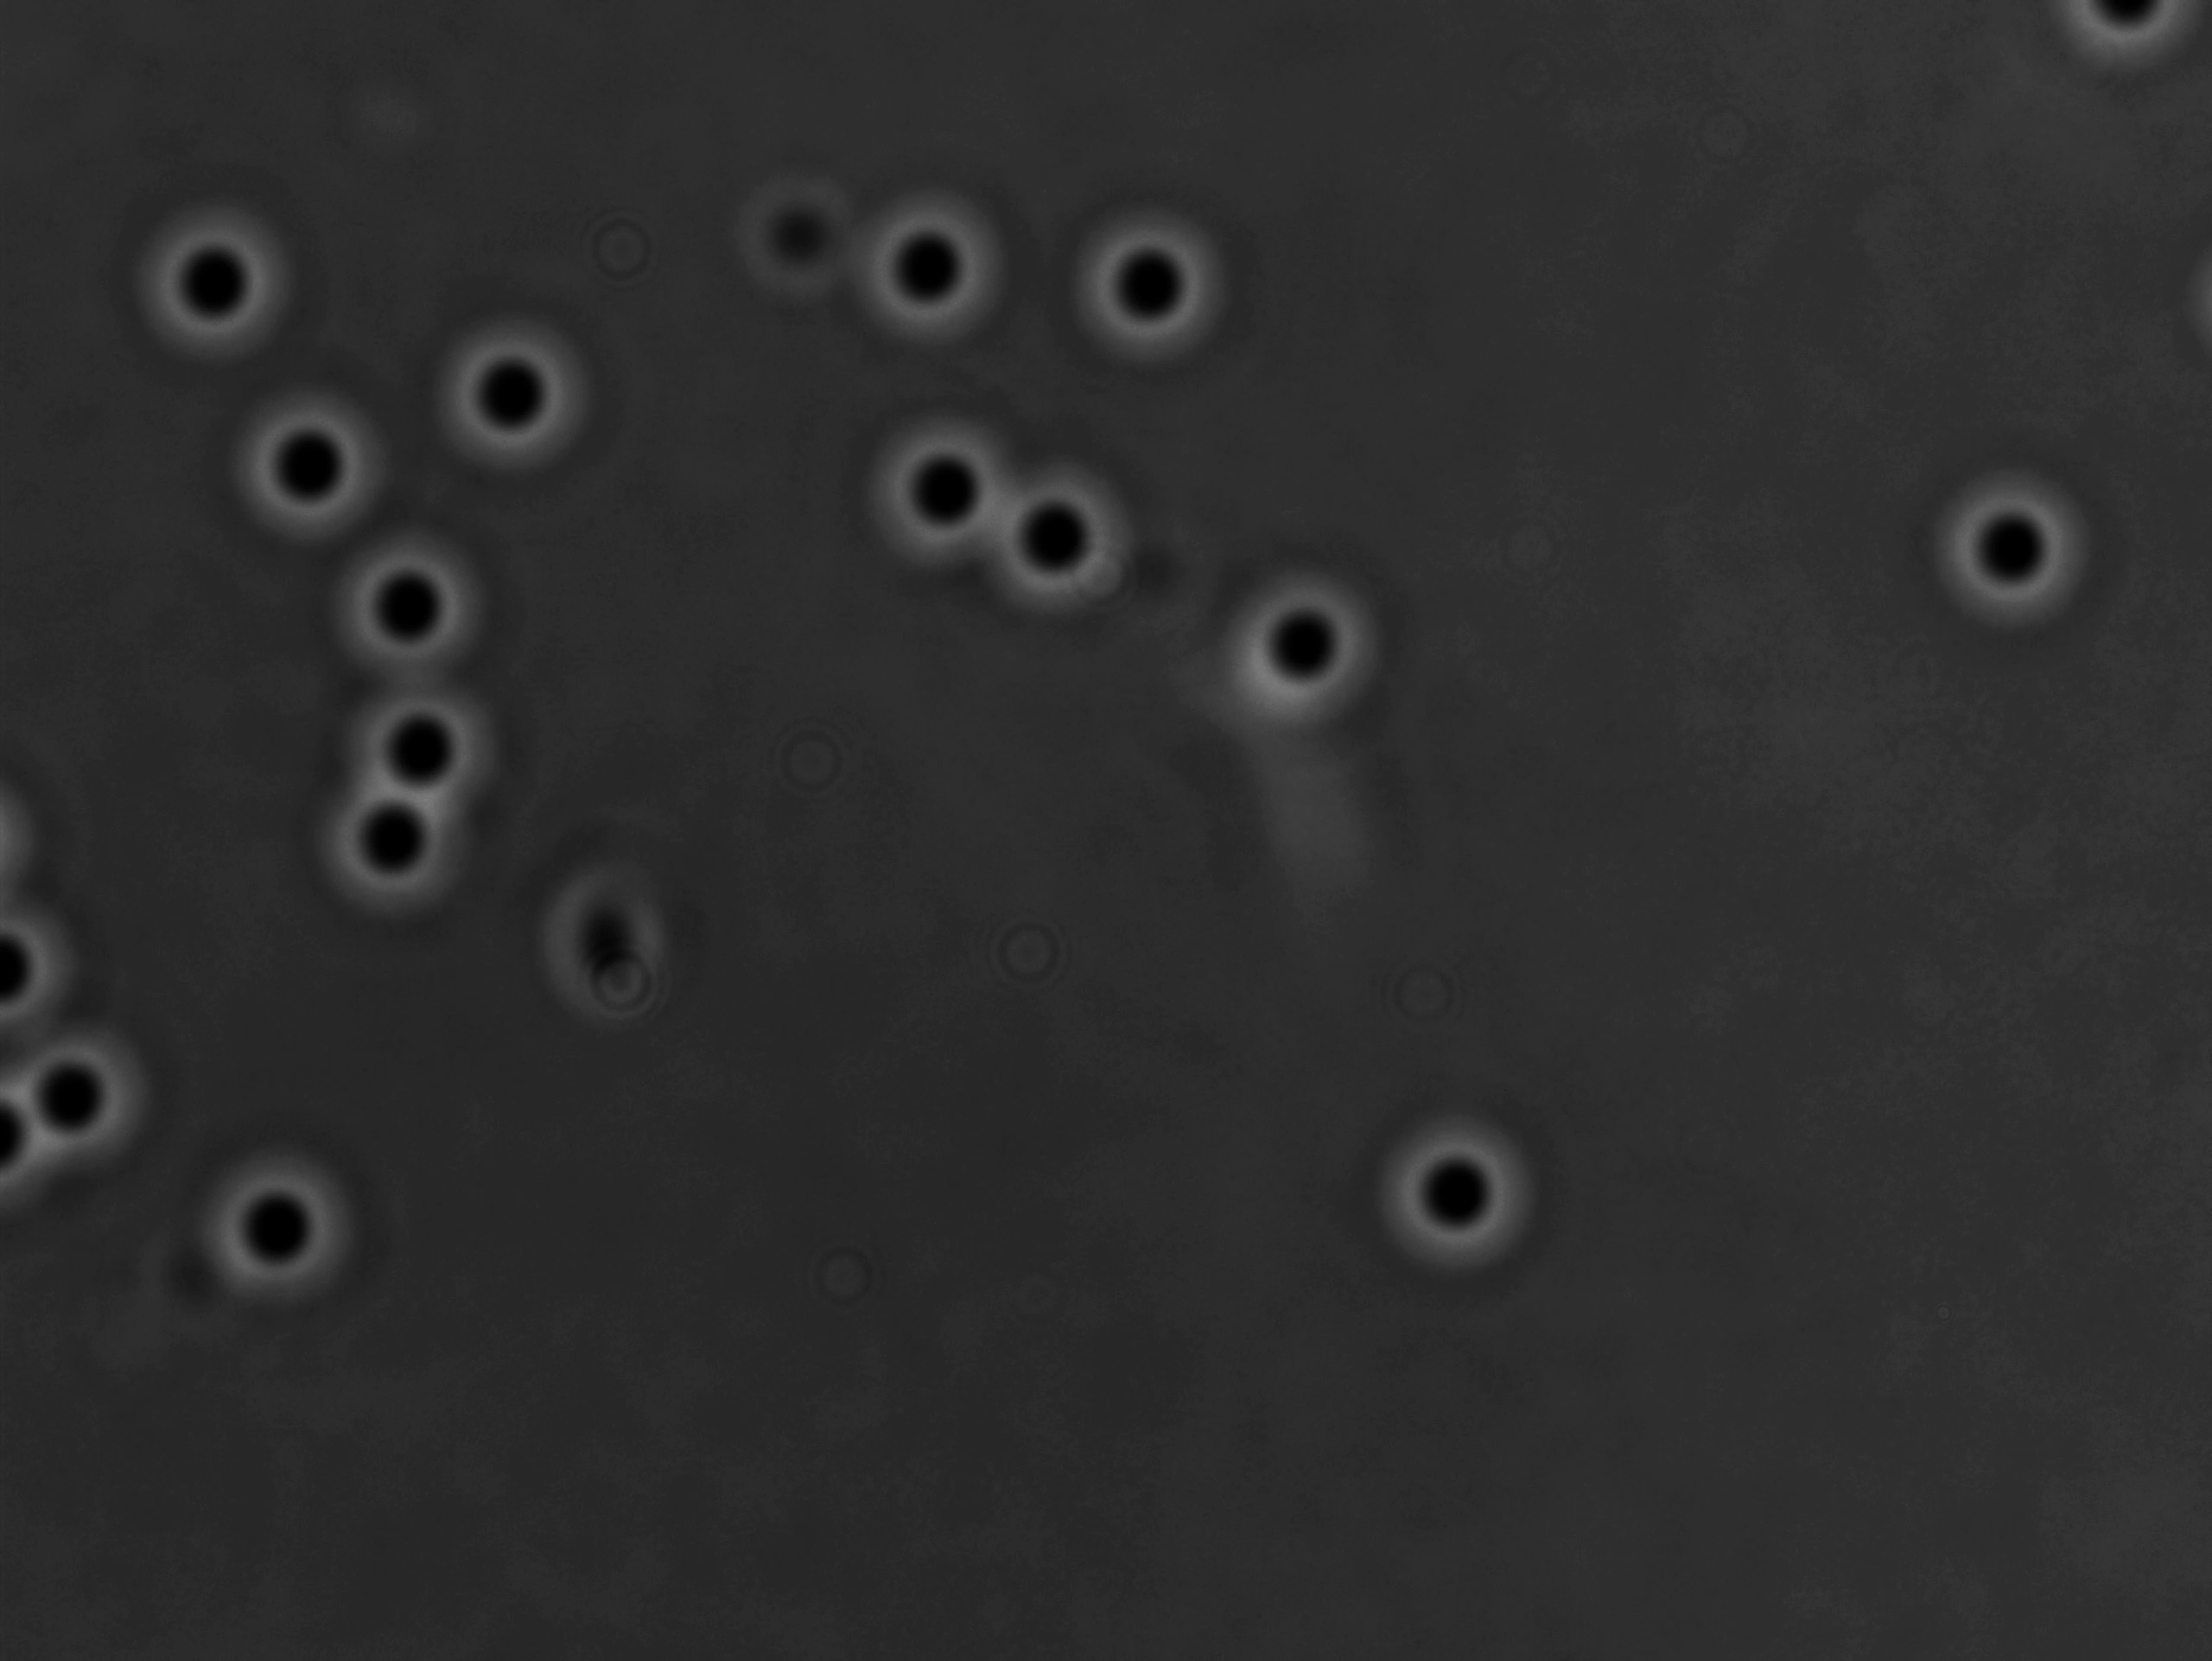depth:-80: (1209, 551, 1418, 740), (857, 384, 1047, 588), (429, 307, 619, 489), (1931, 468, 2125, 646), (178, 1148, 365, 1328), (319, 518, 511, 693), (122, 192, 309, 370), (1371, 1113, 1556, 1288), (1069, 197, 1246, 373), (968, 454, 1151, 619), (298, 764, 483, 928), (850, 185, 1021, 361), (229, 375, 405, 546), (335, 656, 511, 822)
